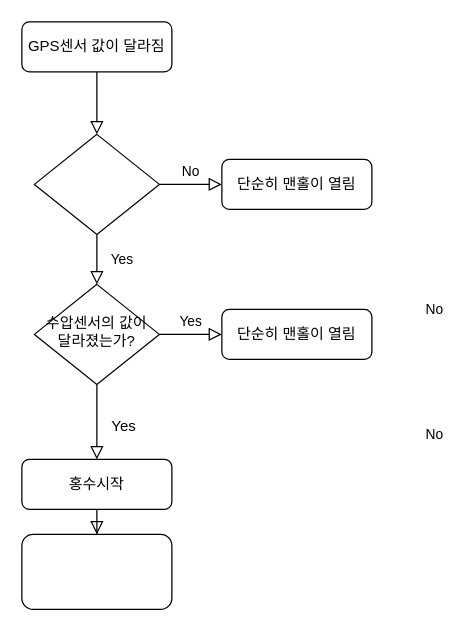
The diagram is 465 pixels wide and 631 high, and some of its shapes have lost their labels. Here are the shapes that lost their labels. From the top down, the centre of each, then its label:
At point (96, 183): "무게 중심센서 값이 달라졌는가?".
At point (96, 571): "지자체에 위험 전송".
